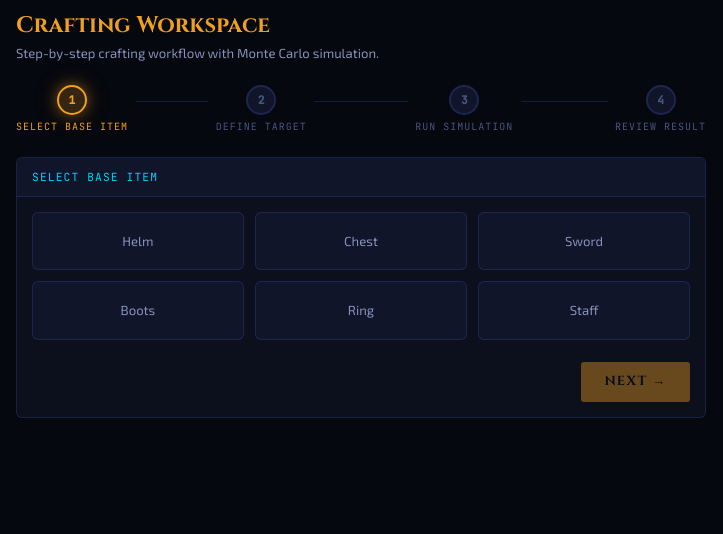
Test: CraftingWorkspace › step 2 Next button enables after adding affix
Click the button "Helm" at (138, 241), box top-left (32, 212), bottom-right (244, 270)
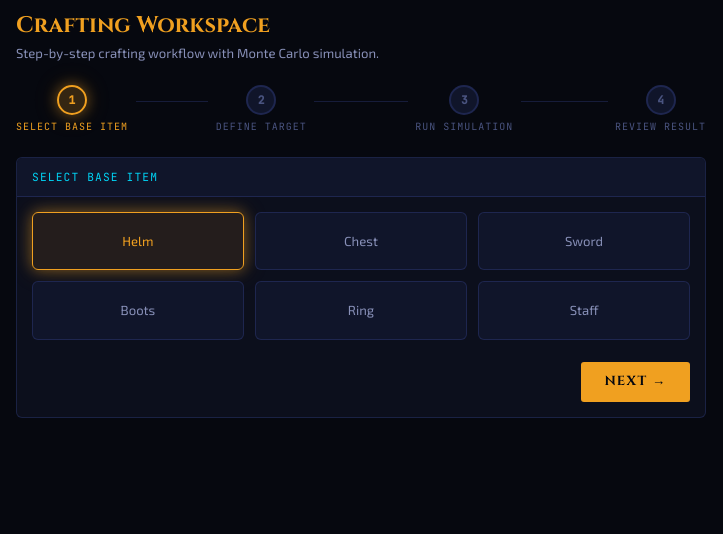
Click the button "Next →" at (635, 382), box top-left (581, 362), bottom-right (690, 402)
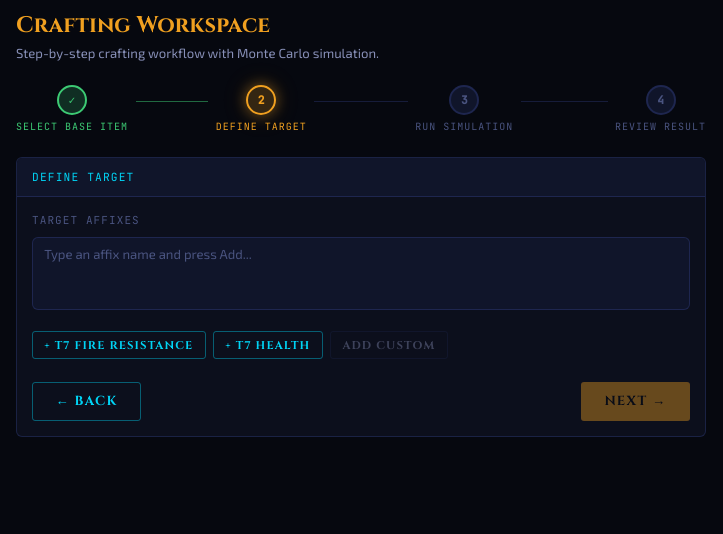
Click the button "+ T7 Fire Resistance" at (119, 345), box top-left (32, 331), bottom-right (206, 359)
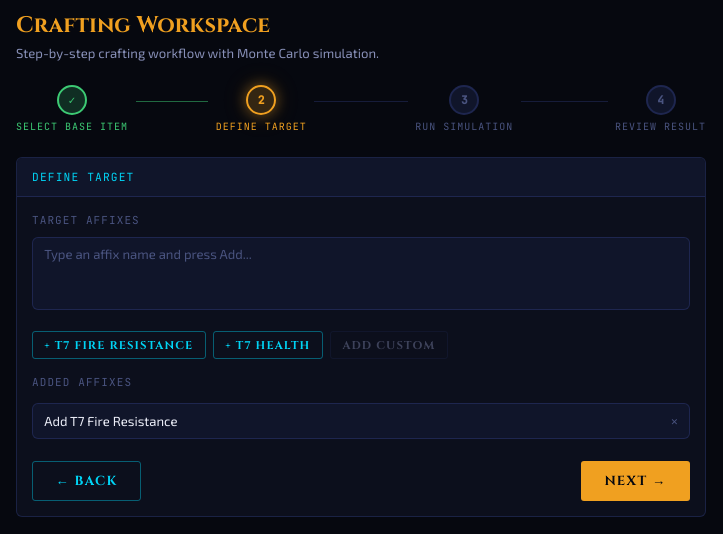
Check: the button "Next →" is enabled, box top-left (581, 461), bottom-right (690, 501)
